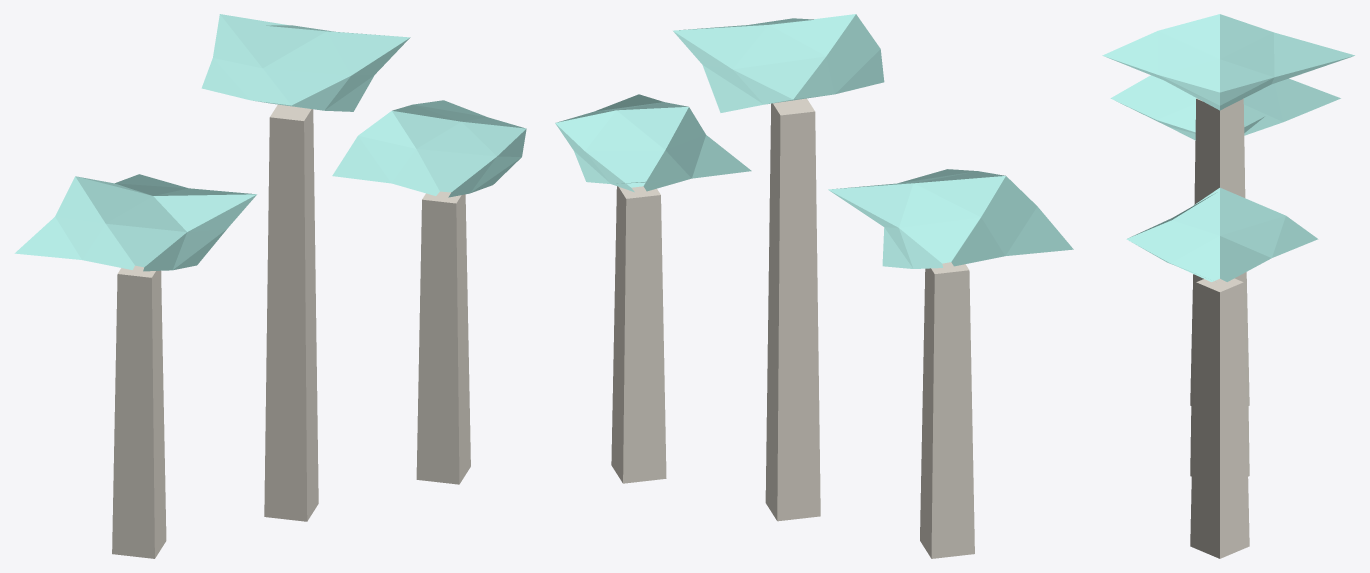
The model's file is glowcap_v37.glb.
3 views of the same model, side by side, from view 1: azimuth 30°, elevation 25°; view 2: azimuth 150°, elevation 25°; view 3: azimuth 270°, elevation 25° (orthographic). The views are drawn at different scales.
Visible parts, largest first — view 1: lod0; view 2: lod0; view 3: lod0.
Part boxes in pixels (x1,y1,x2,y2): lod0: (14, 14, 526, 558); lod0: (555, 14, 1073, 558); lod0: (1102, 14, 1354, 558).
Size of what is drawn, in the model's own units: 0.471 by 0.4262 by 0.2131.
